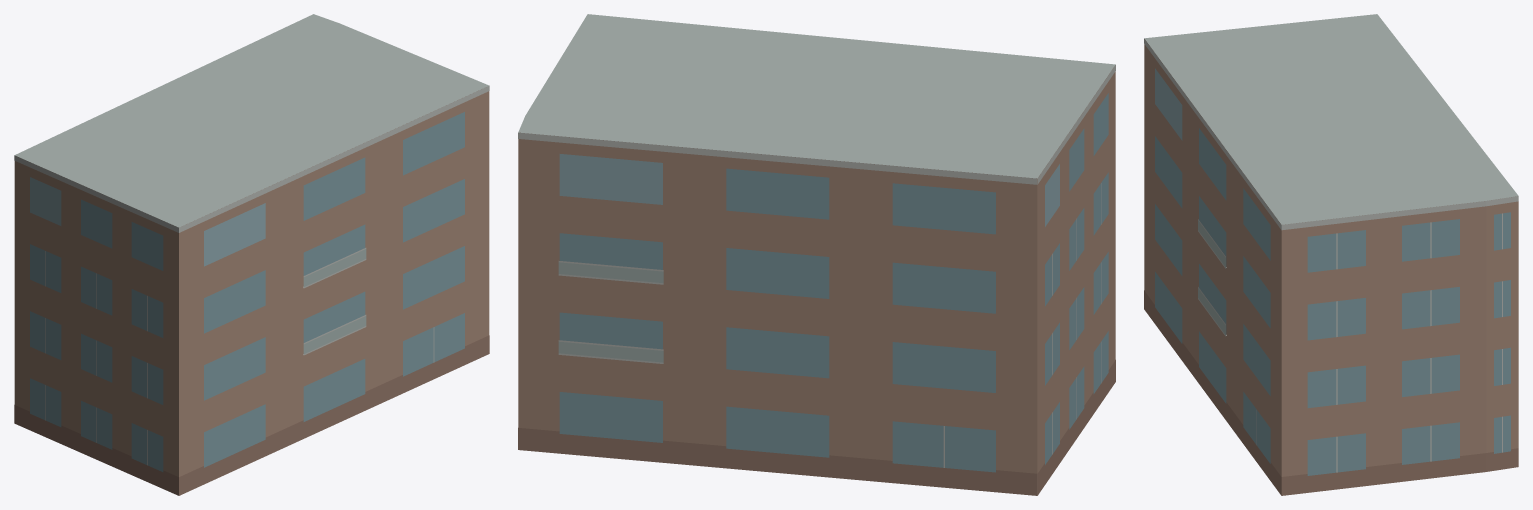
The model's file is survey-upis-32578958.glb.
3 renders of one model, left to right at view 1: azimuth 30°, elevation 25°; view 2: azimuth 150°, elevation 25°; view 3: azimuth 270°, elevation 25°, orthographic. The views are drawn at different scales.
Visible parts, largest first — view 1: survey-upis-32578958.tmp; view 2: survey-upis-32578958.tmp; view 3: survey-upis-32578958.tmp.
Boxes of the visible parts, bbox=[...] form: survey-upis-32578958.tmp: bbox=[14, 14, 489, 495]; survey-upis-32578958.tmp: bbox=[518, 14, 1115, 495]; survey-upis-32578958.tmp: bbox=[1144, 14, 1518, 495].
Size of the model in its own units: 20.36 by 12.2 by 15.29.
